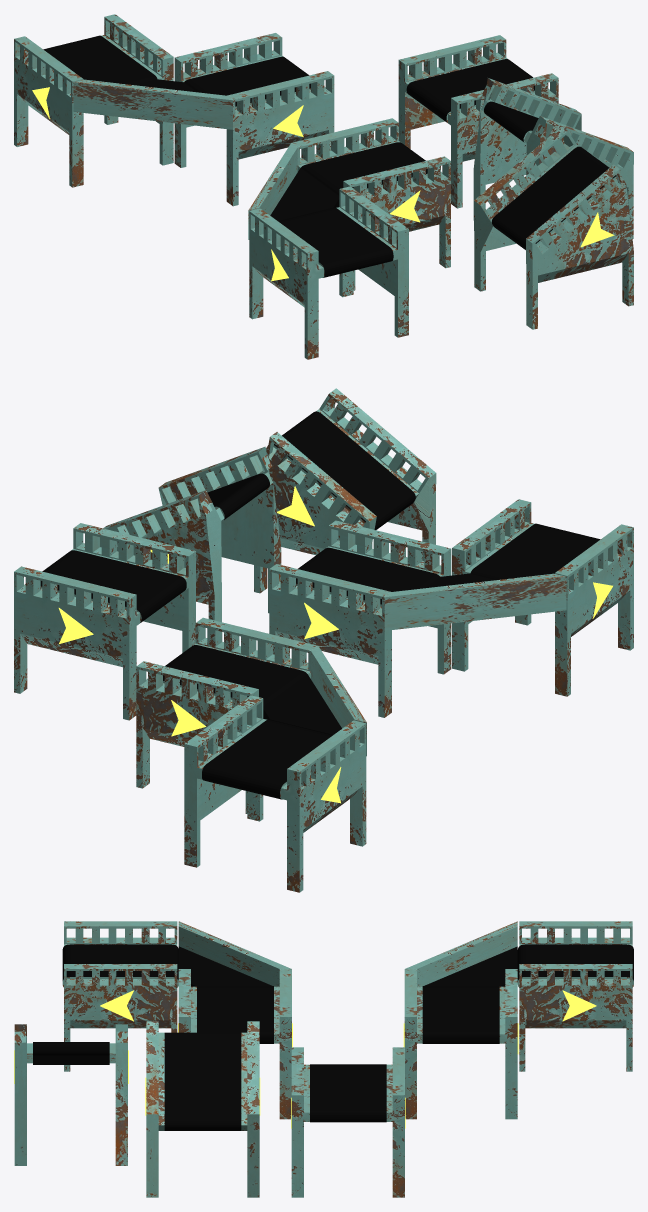
The model's file is Conveyors.fbx.
3 renders of one model, top to bottom at view 1: azimuth 30°, elevation 25°; view 2: azimuth 150°, elevation 25°; view 3: azimuth 270°, elevation 25°, orthographic. The views are drawn at different scales.
Parts seen in each view (by area): view 1: ConveyorTurnRight, ConveyorTurnLeft, SlopeDownConveyor, Straight_Conveyor, SlopeUpConveyor; view 2: ConveyorTurnLeft, ConveyorTurnRight, Straight_Conveyor, SlopeDownConveyor, SlopeUpConveyor; view 3: ConveyorTurnRight, ConveyorTurnLeft, SlopeUpConveyor, Straight_Conveyor, SlopeDownConveyor.
Boxes of the visible parts, bbox=[...] form: ConveyorTurnRight: bbox=[14, 14, 334, 206]; ConveyorTurnLeft: bbox=[248, 118, 450, 359]; SlopeDownConveyor: bbox=[474, 126, 633, 329]; Straight_Conveyor: bbox=[398, 35, 558, 208]; SlopeUpConveyor: bbox=[473, 78, 633, 238]; ConveyorTurnLeft: bbox=[269, 499, 633, 717]; ConveyorTurnRight: bbox=[136, 617, 366, 892]; Straight_Conveyor: bbox=[14, 523, 195, 720]; SlopeDownConveyor: bbox=[254, 388, 436, 593]; SlopeUpConveyor: bbox=[100, 446, 281, 622]; ConveyorTurnRight: bbox=[403, 921, 633, 1119]; ConveyorTurnLeft: bbox=[62, 921, 292, 1119]; SlopeUpConveyor: bbox=[145, 1021, 260, 1197]; Straight_Conveyor: bbox=[291, 1047, 405, 1197]; SlopeDownConveyor: bbox=[14, 1024, 128, 1165].
Size of the model in its own units: 731 by 263 by 1095.
